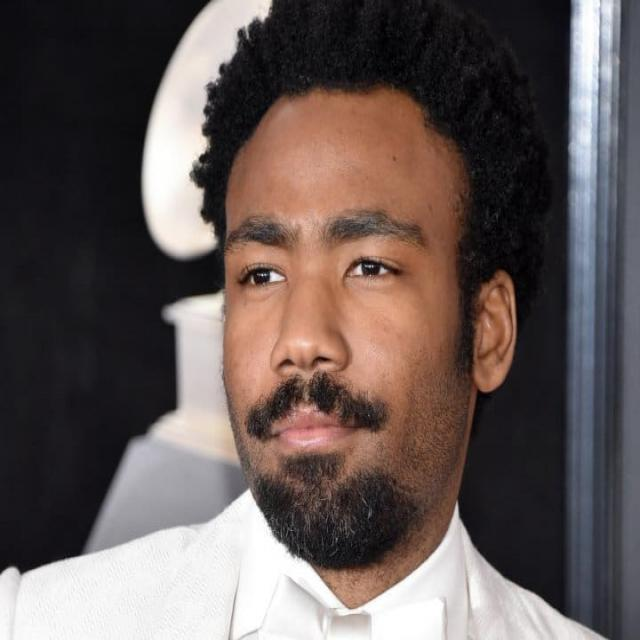beard: (226, 372, 420, 571)
hair: (192, 0, 553, 323)
